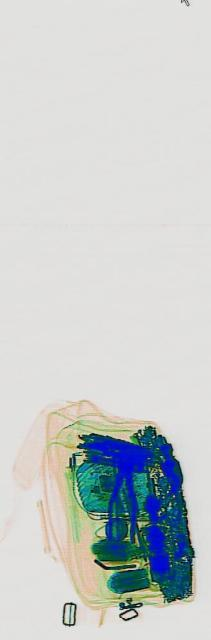Pliers: (105, 434, 140, 550)
